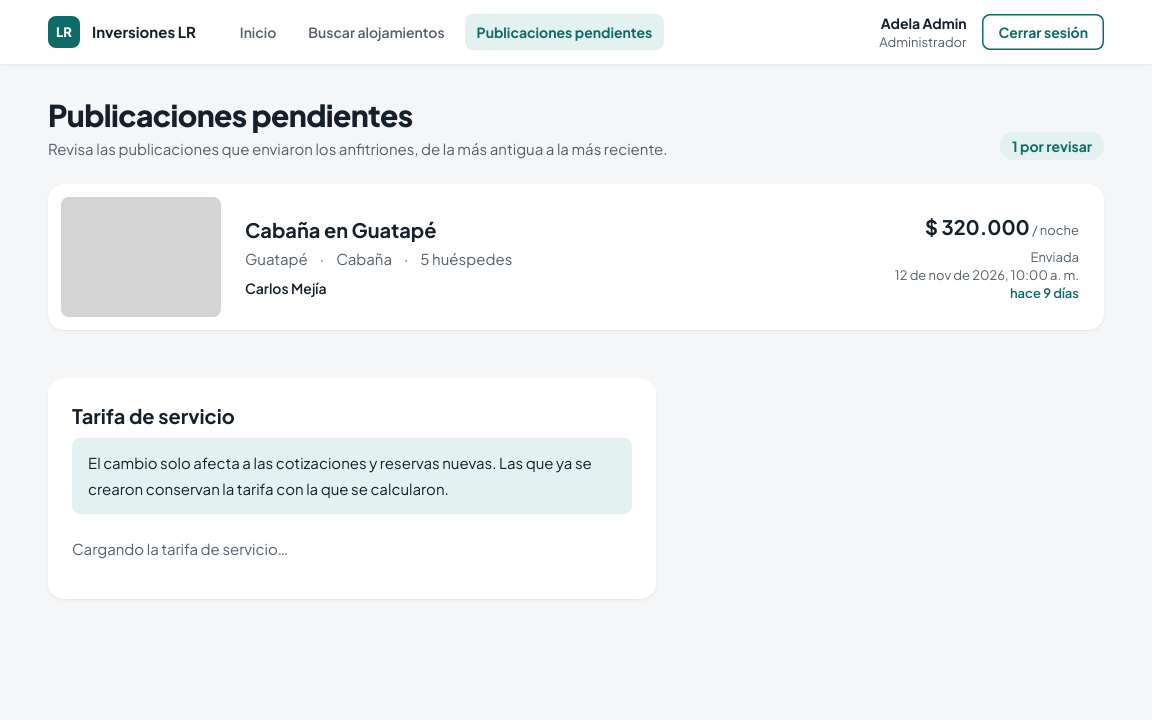
Test: bandeja de aprobación › al abrir una fila muestra su detalle
Click the link "Cabaña en Guatapé" at (341, 230), box [245,217,436,242]
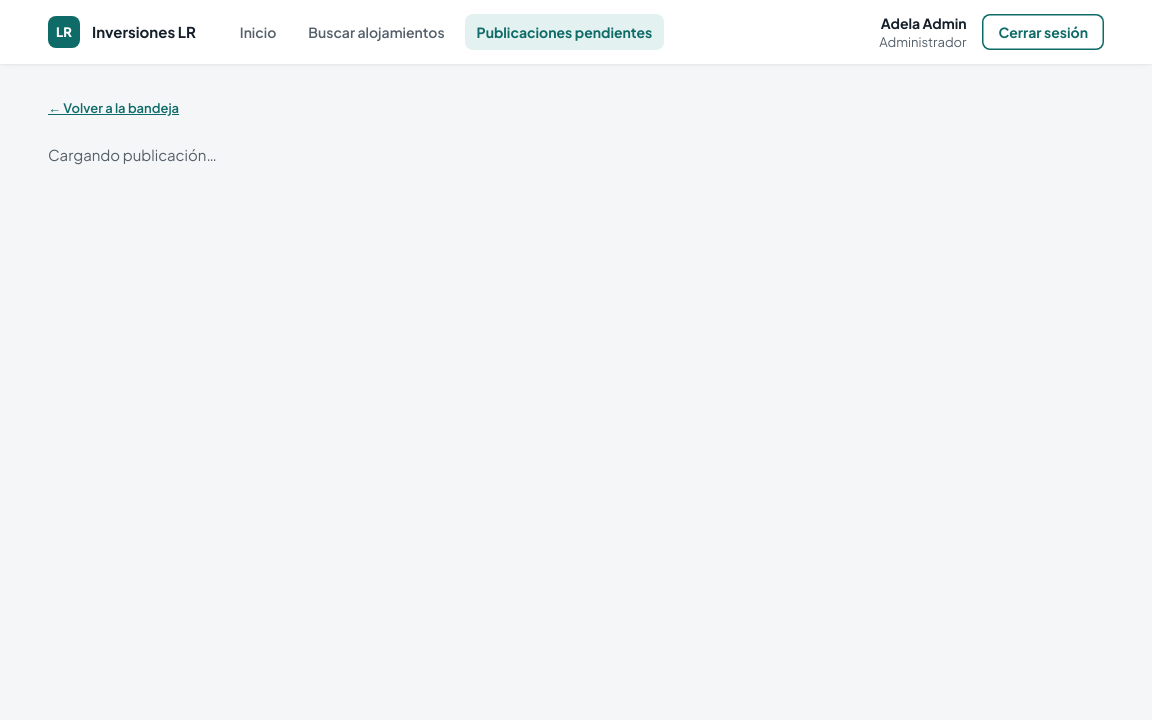
Expected: the text "Cargando publicación…" is shown, [48,145,217,164]
